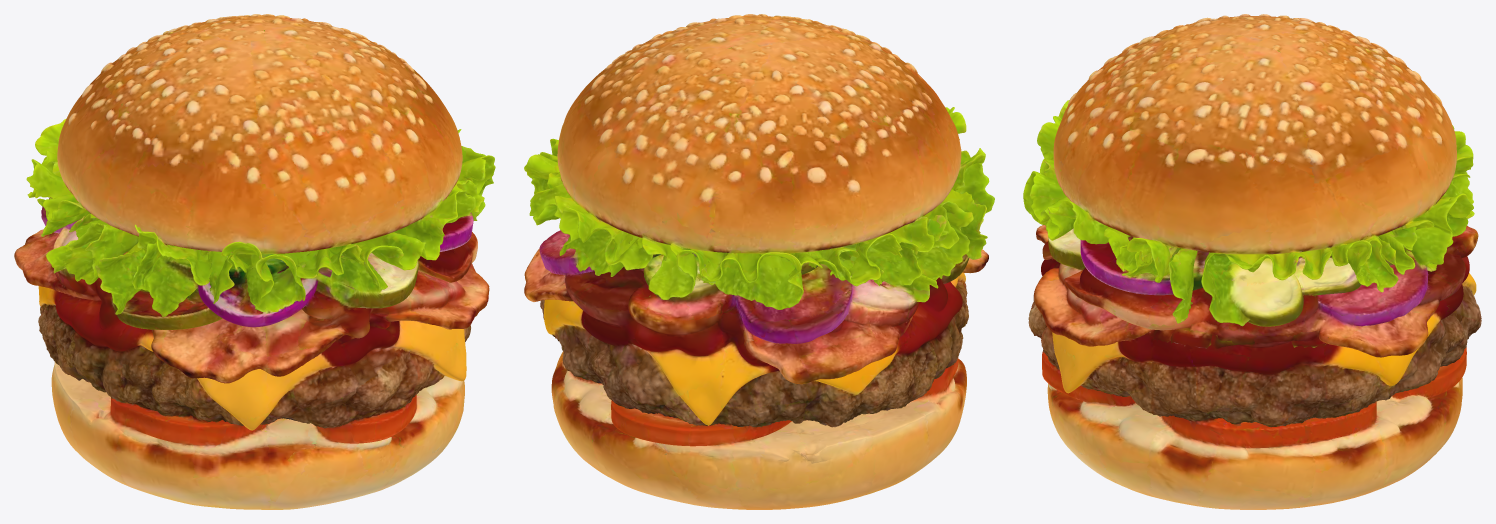
File: burger.glb
3 views of the same model, side by side, from view 1: azimuth 30°, elevation 25°; view 2: azimuth 150°, elevation 25°; view 3: azimuth 270°, elevation 25° (orthographic).
Parts seen in each view (by area): view 1: Mesh_0.002; view 2: Mesh_0.002; view 3: Mesh_0.002.
Boxes of the visible parts, x1=… form: Mesh_0.002: x1=14, y1=14, x2=495, y2=509; Mesh_0.002: x1=524, y1=14, x2=994, y2=509; Mesh_0.002: x1=1023, y1=14, x2=1481, y2=509.
Size of the model in its own units: 0.124 by 0.12 by 0.1238.
1 material, 1 textured.
